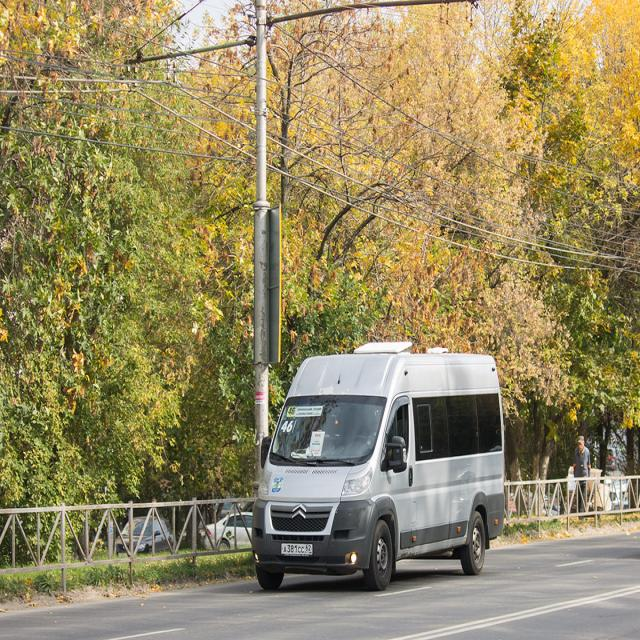number-of-bus: (282, 421, 295, 434), (287, 407, 297, 417)
